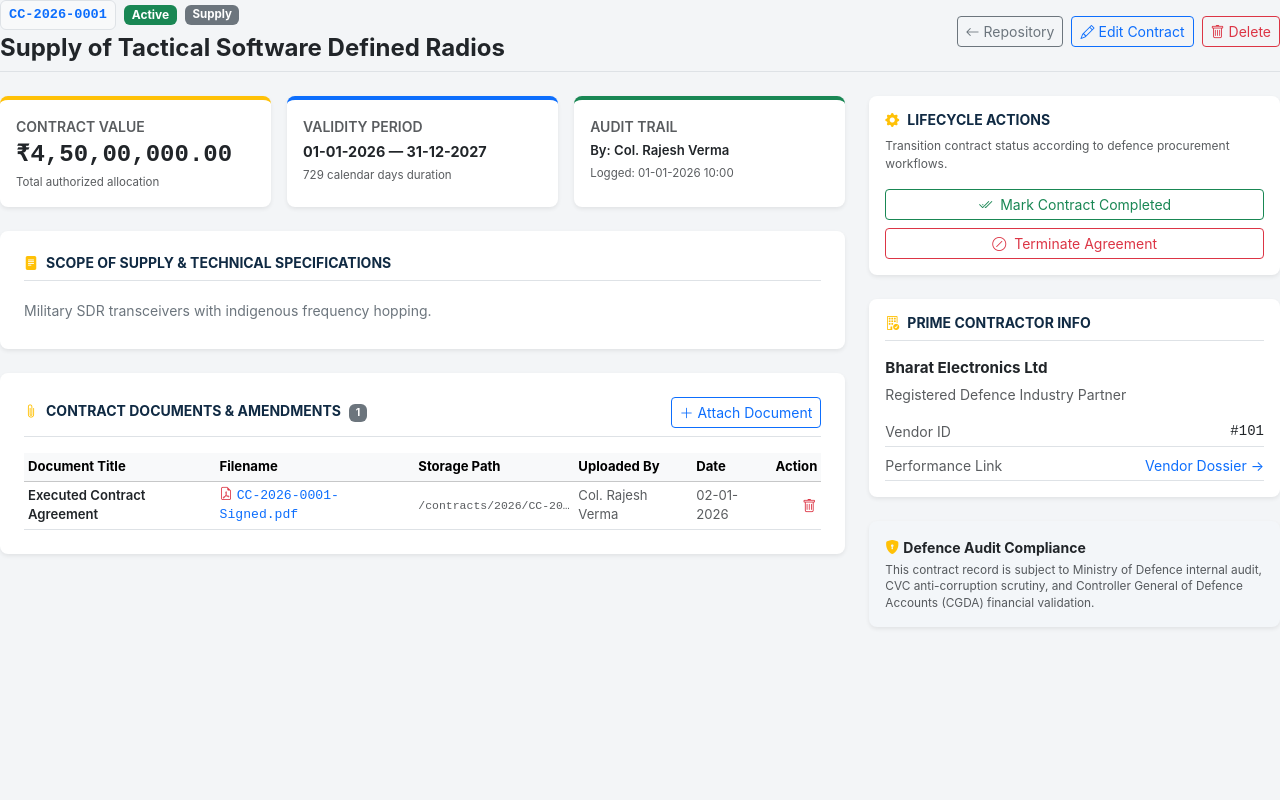
Phase 4 — Contract Repository and Lifecycle Suite › ContractDetailPage Component › opens attach document modal and attaches new audit record
This screenshot has width=1280, height=800.
Later steps or results of the test are not shown.
Expected: the text "CC-2026-0001" is shown, [0,0,116,30]
Click the button "Attach Document". click: (746, 412)
box: [671,397,821,428]
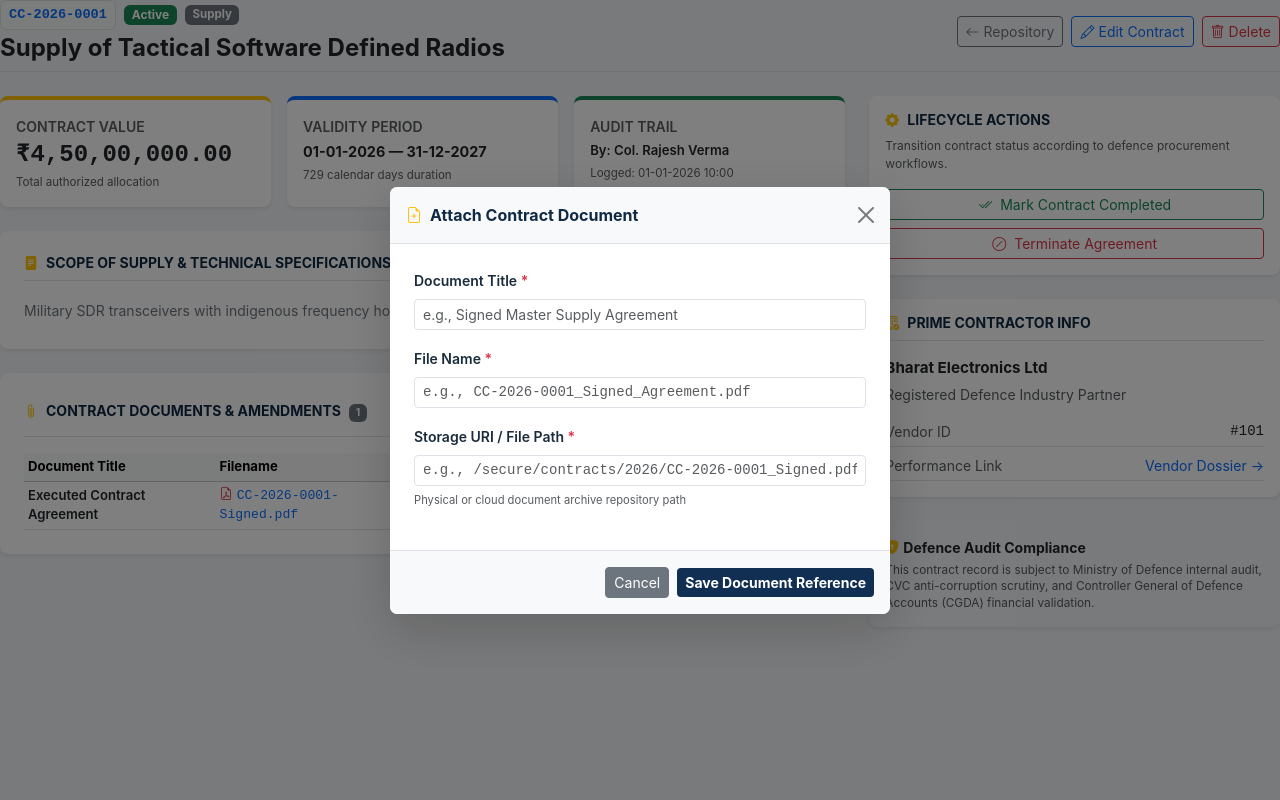
Now the field with placeholder "e.g., Signed Master Supply Agreement" is shown, box [414,298,866,330]
